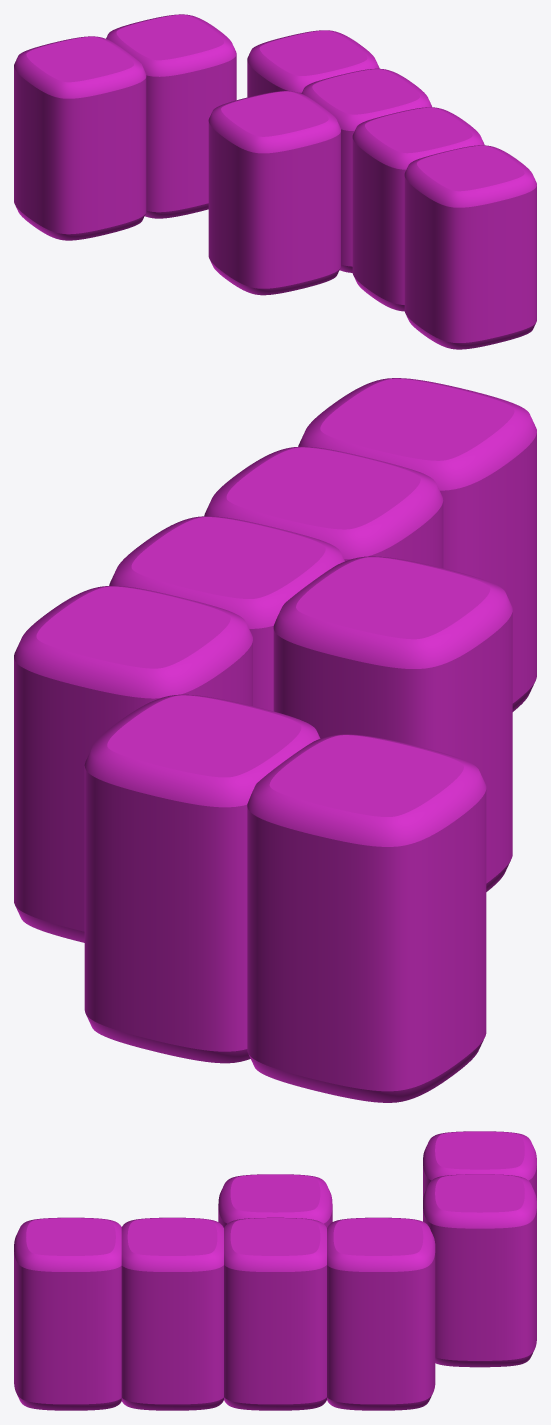
Rendered from Letter_t_Small.fbx.
3 renders of one model, top to bottom at view 1: azimuth 30°, elevation 25°; view 2: azimuth 150°, elevation 25°; view 3: azimuth 270°, elevation 25°, orthographic. The views are drawn at different scales.
Visible parts, largest first — view 1: Letter_t; view 2: Letter_t; view 3: Letter_t.
Part boxes in pixels (<box>): Letter_t: <box>14,14,536,349</box>; Letter_t: <box>14,378,536,1102</box>; Letter_t: <box>14,1131,536,1410</box>.
Size of the model in its own units: 0.2619 by 0.14 by 0.43.
